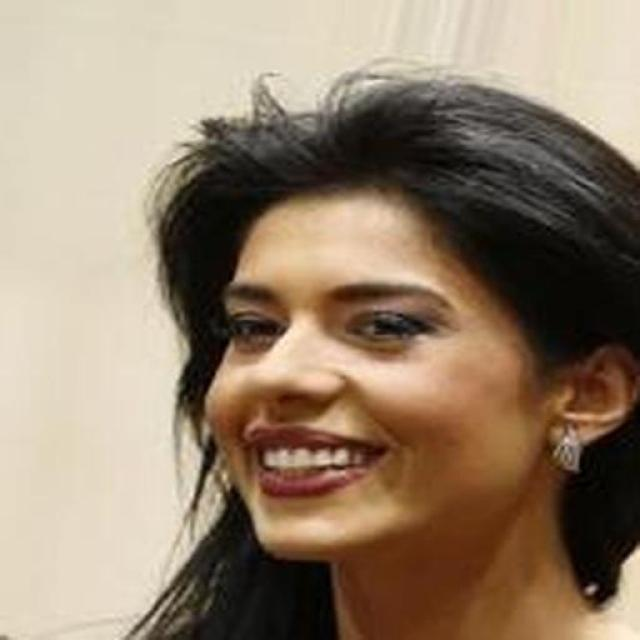bareface: (173, 114, 618, 538)
